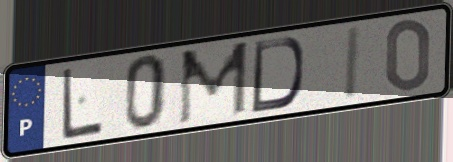0: (123, 52, 174, 133), (381, 17, 432, 95)
D: (248, 35, 307, 116)
I: (342, 23, 364, 103)
L: (60, 65, 105, 143)
M: (176, 38, 251, 128)
